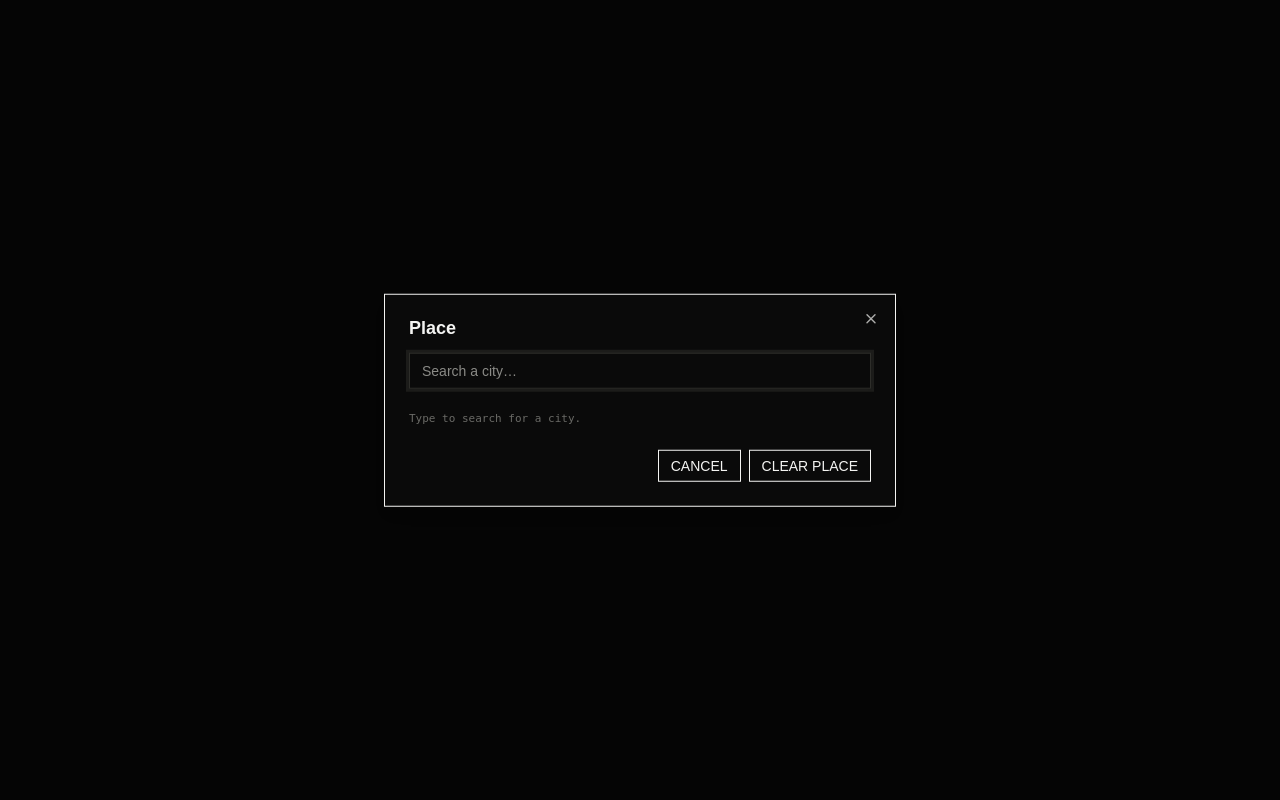
Test: shows city results and 'No cities found' when empty
Type "zzz" into the field with placeholder "Search a city…". click: (640, 371)
box: [409, 353, 871, 389]
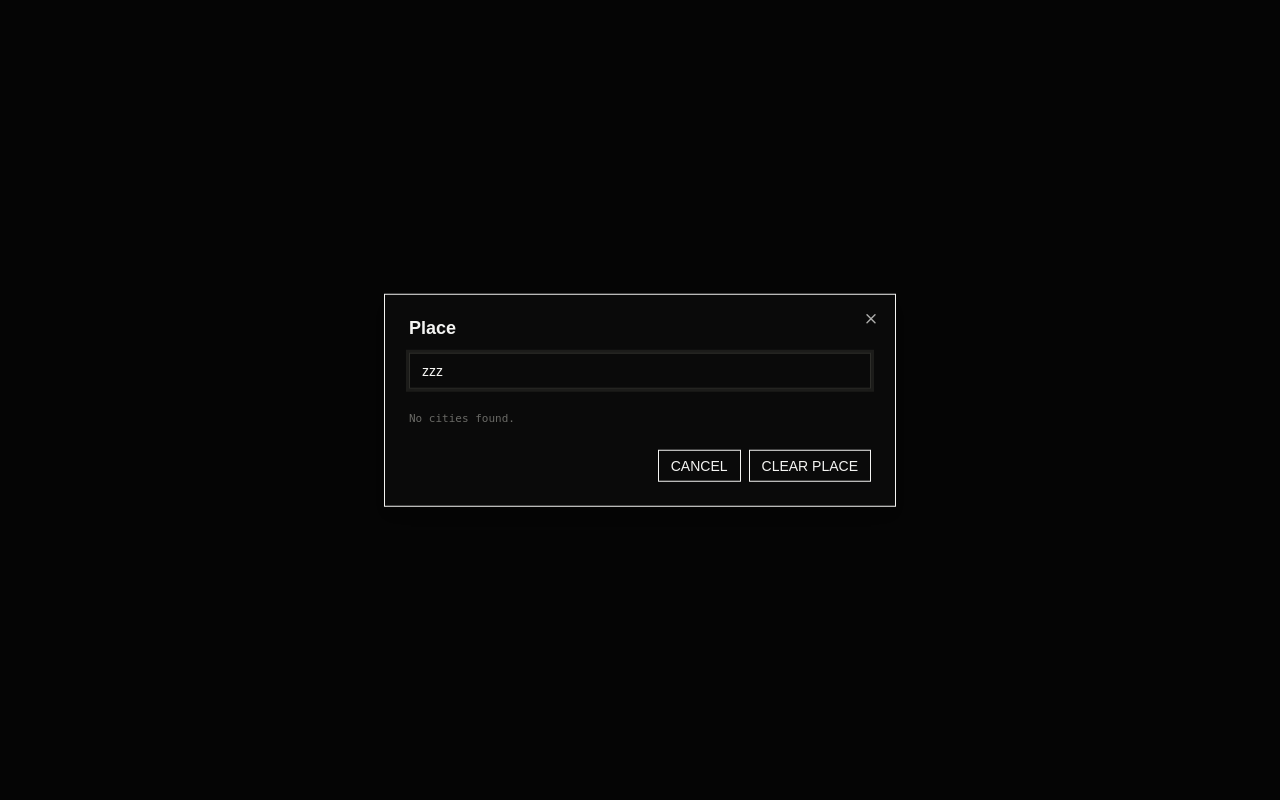
Check: the text "No cities found." is shown, box [409, 412, 515, 425]
